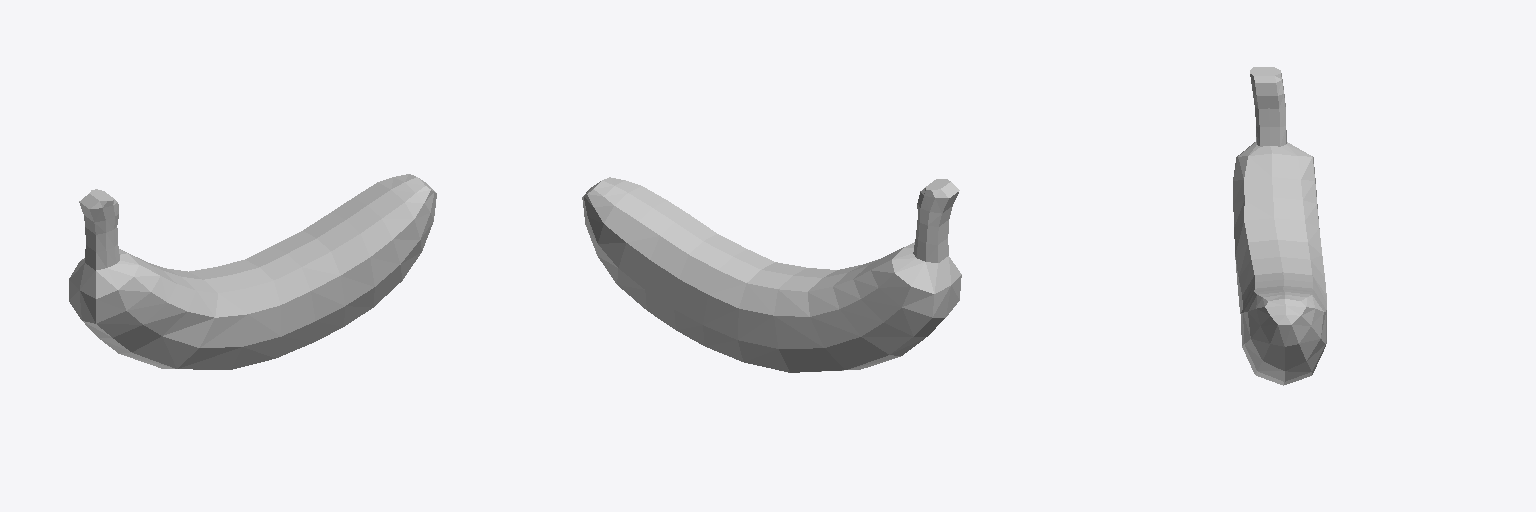
File: Banana.obj
The picture shows the model from 3 angles: view 1: azimuth 30°, elevation 25°; view 2: azimuth 150°, elevation 25°; view 3: azimuth 270°, elevation 25°; orthographic projection.
Parts seen in each view (by area): view 1: pCube1; view 2: pCube1; view 3: pCube1.
Part boxes in pixels (x1,y1,x2,y2): pCube1: (69,174,436,369); pCube1: (582,177,961,372); pCube1: (1233,67,1326,385).
Bounding box in the file's own units: 3.53 × 1.99 × 0.8.